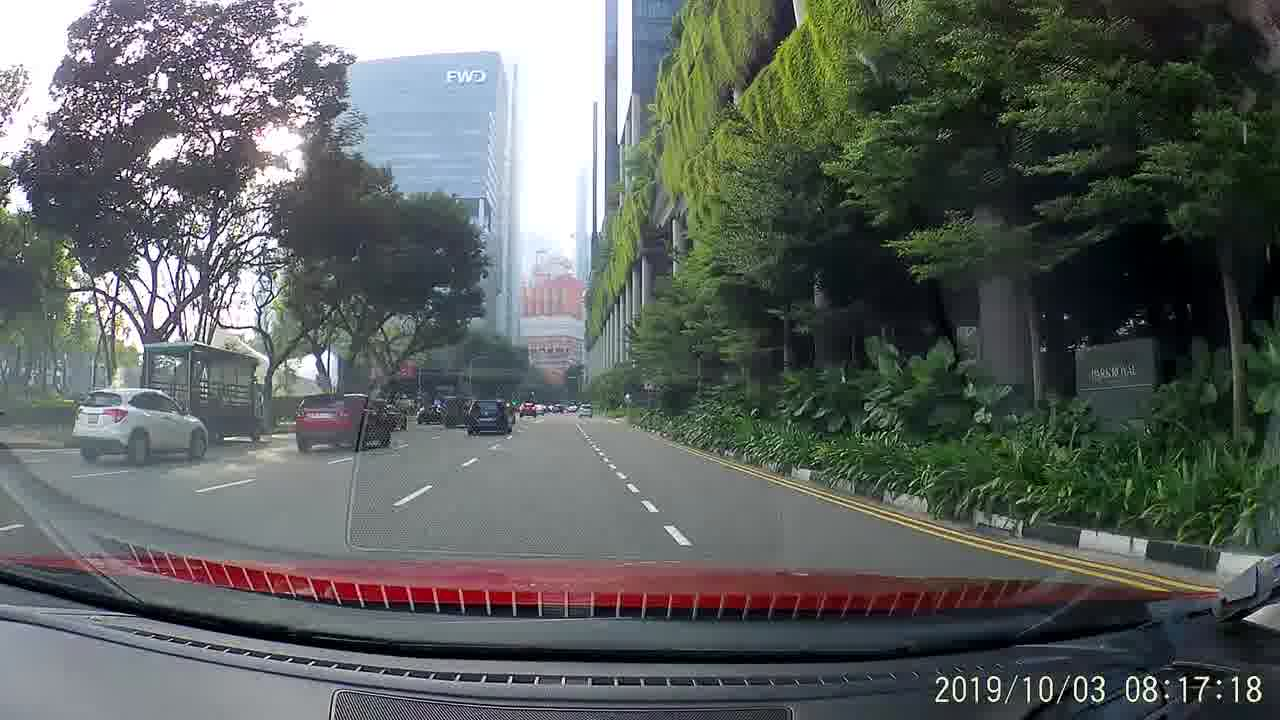car: (71, 385, 213, 466), (293, 391, 393, 451), (468, 396, 515, 437), (517, 401, 539, 421), (575, 397, 594, 420)
